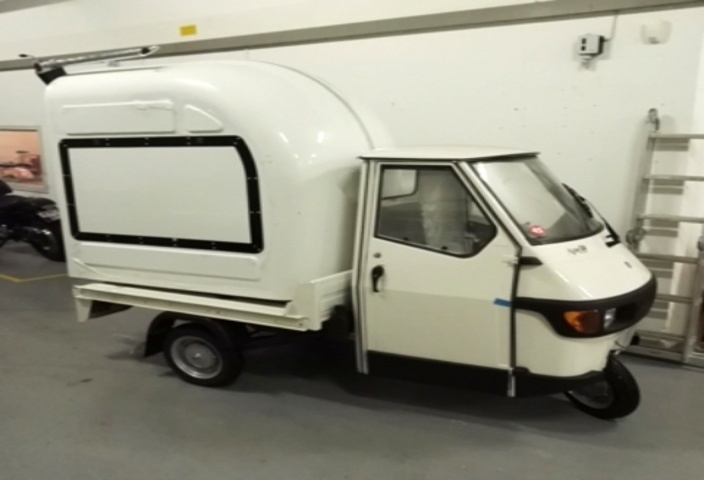van: (34, 47, 668, 436)
